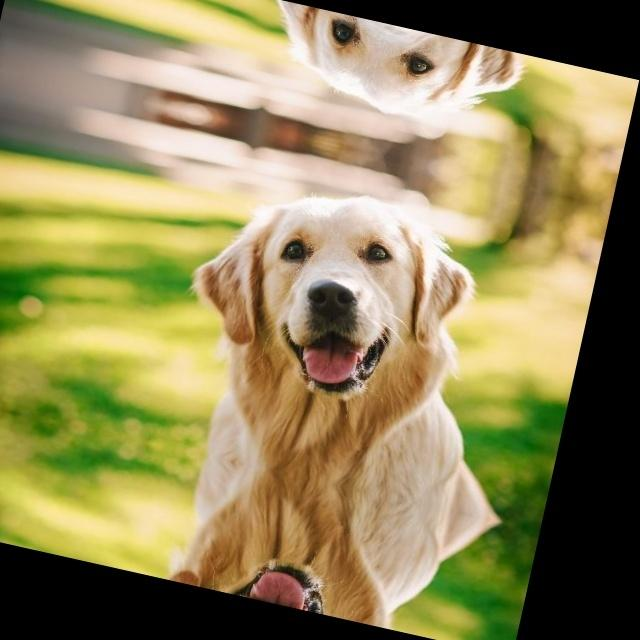dog: (137, 146, 530, 514), (110, 441, 467, 640), (215, 0, 565, 160)
